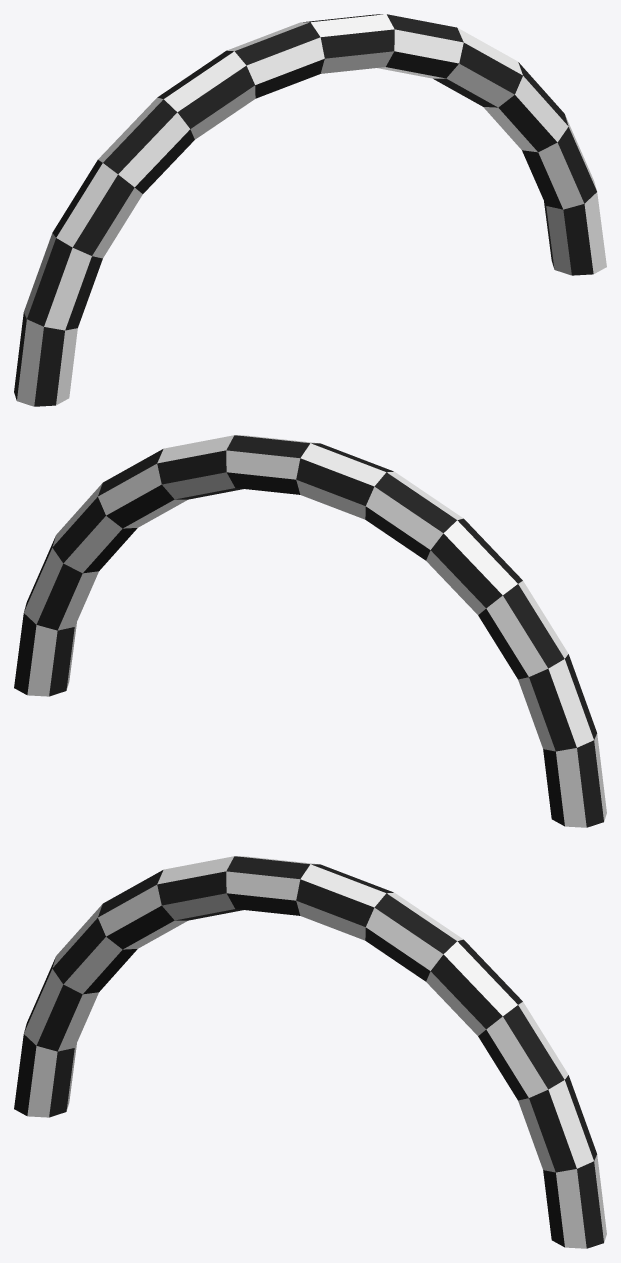
The model's file is waypoint.glb.
3 views of the same model, one above another, from view 1: azimuth 30°, elevation 25°; view 2: azimuth 150°, elevation 25°; view 3: azimuth 330°, elevation 25° (orthographic).
Parts seen in each view (by area): view 1: waypoint; view 2: waypoint; view 3: waypoint.
Part boxes in pixels (box(x1,y1,x2,y2)): waypoint: box(14, 14, 606, 406); waypoint: box(14, 435, 606, 827); waypoint: box(14, 856, 606, 1248).
Bounding box in the file's own units: 8.88 × 4.44 × 0.75.
1 material, 1 textured.
